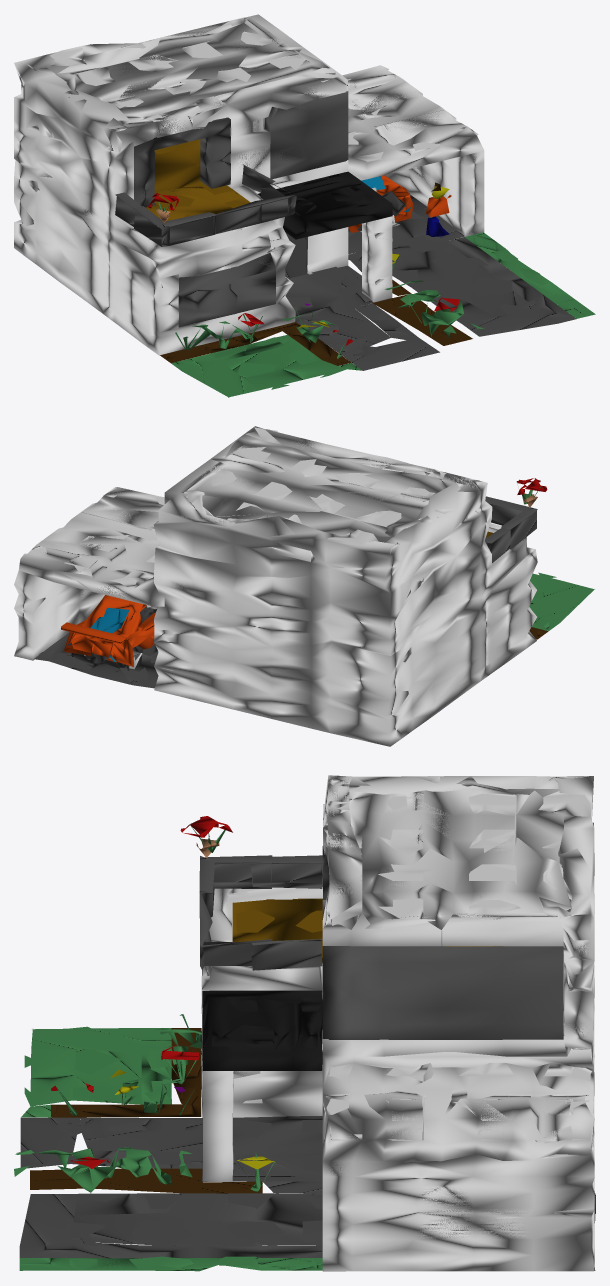
File: downloaded_house_far.glb
3 renders of one model, top to bottom at view 1: azimuth 30°, elevation 25°; view 2: azimuth 150°, elevation 25°; view 3: azimuth 270°, elevation 25°, orthographic. The views are drawn at different scales.
Bounding box in the file's own units: 14.25 × 6.9 × 14.01.
